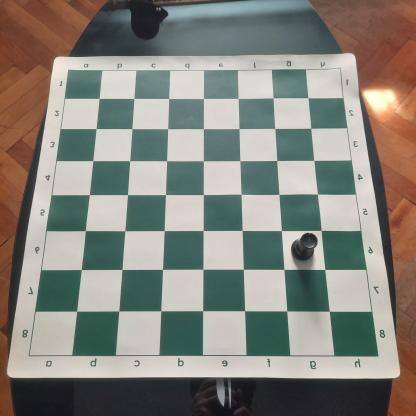black-rook: (288, 232, 319, 262)
